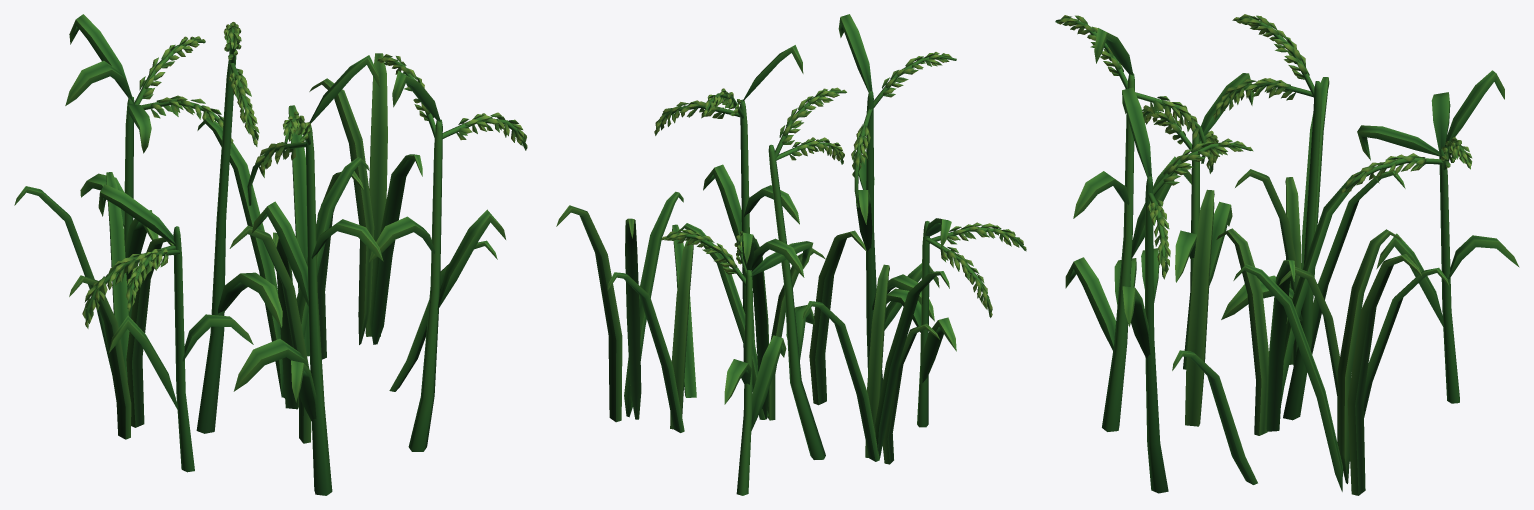
Rendered from SM_Plant_Rice_Lv2.fbx.
3 views of the same model, side by side, from view 1: azimuth 30°, elevation 25°; view 2: azimuth 150°, elevation 25°; view 3: azimuth 270°, elevation 25° (orthographic). The views are drawn at different scales.
Parts seen in each view (by area): view 1: SM_Plant_Rice_Lv2; view 2: SM_Plant_Rice_Lv2; view 3: SM_Plant_Rice_Lv2.
Boxes of the visible parts, bbox=[...] form: SM_Plant_Rice_Lv2: bbox=[14, 14, 527, 495]; SM_Plant_Rice_Lv2: bbox=[556, 14, 1026, 495]; SM_Plant_Rice_Lv2: bbox=[1055, 14, 1519, 495].
Size of the model in its own units: 59.2 by 57.26 by 56.96.
